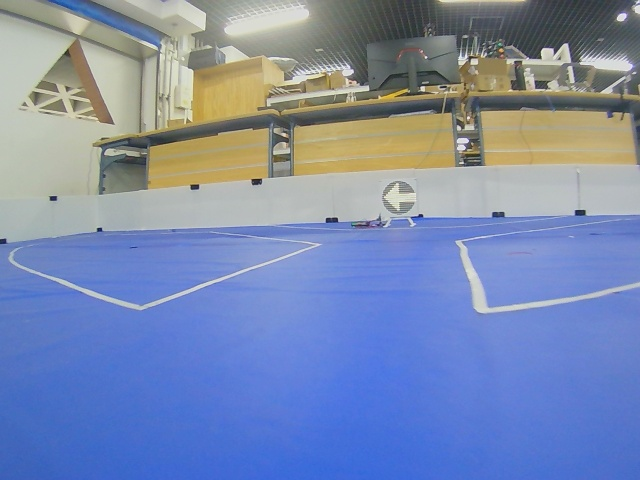left_yellow: (382, 181, 416, 215)
